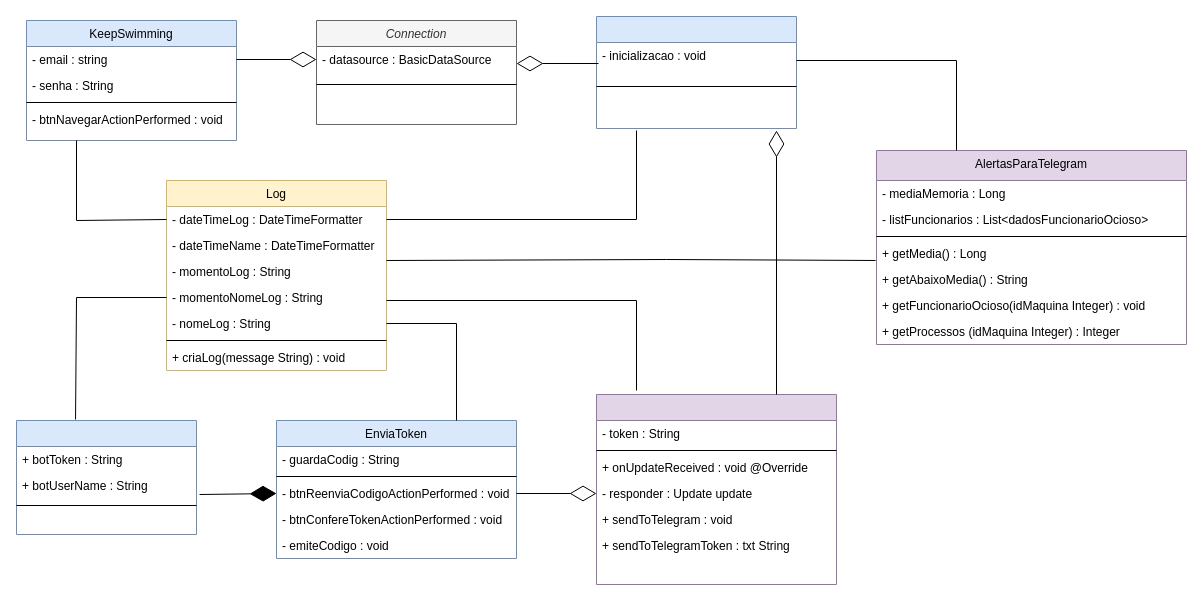
Some shapes in this 1203 by 601 pixel diagram are drawn without their labels. Here are the shapes that lost their labels. From the top down, the box of each, then its label:
(596, 16, 796, 128): TelaPrincipal
(16, 420, 196, 534): DadosBot
(596, 394, 836, 584): KeepSwimmingTelegramBot
